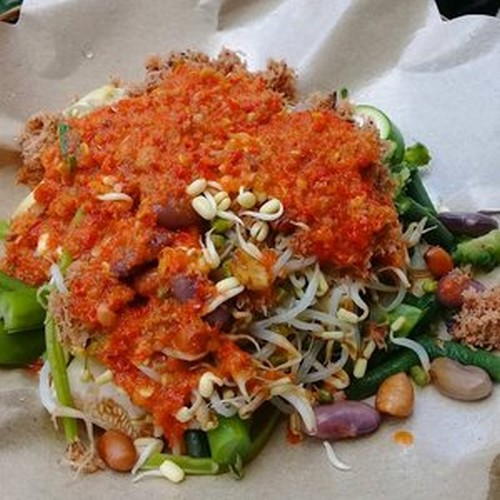serombotan: (43, 150, 481, 496)
